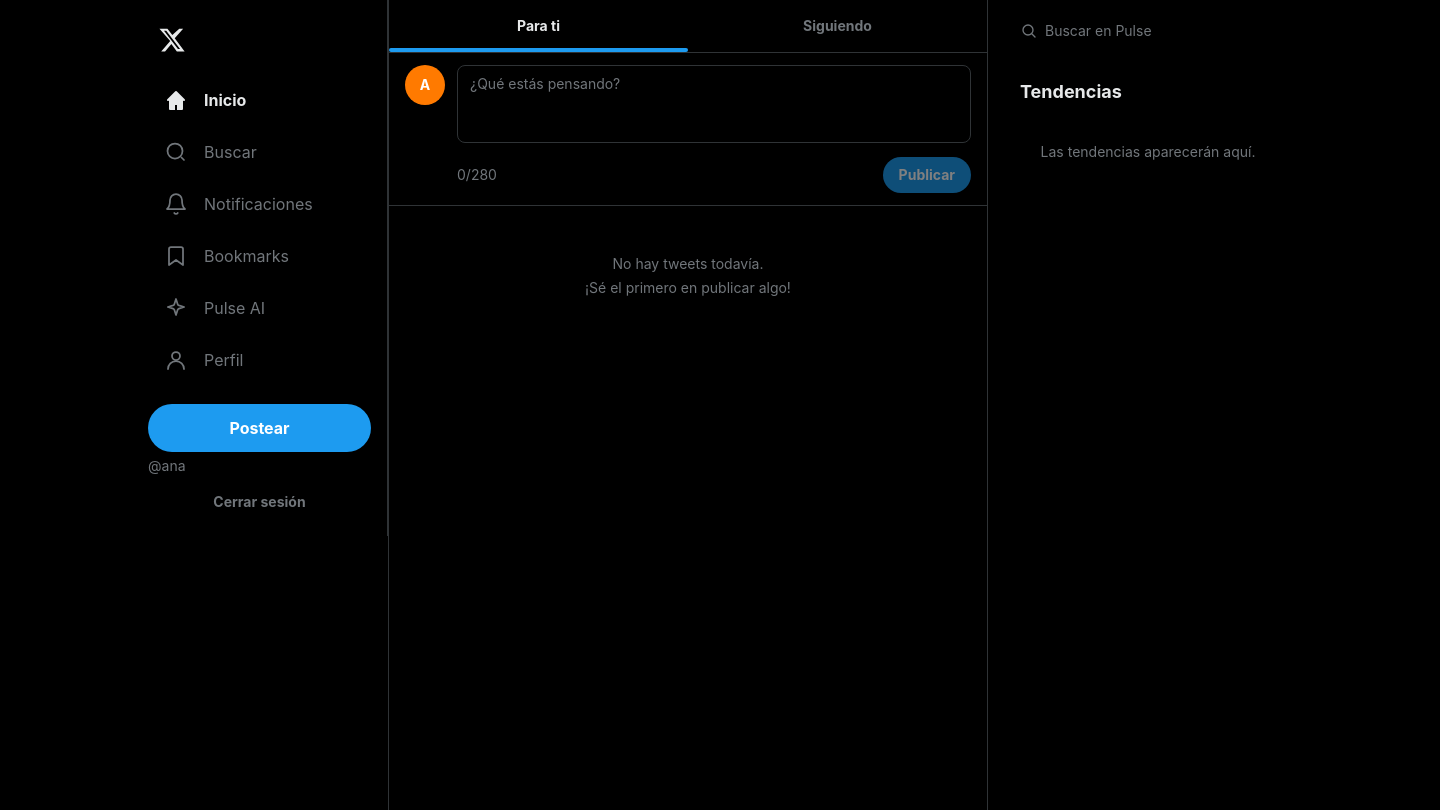
Test: ComposeModal — modal de composición de tweet › el botón Postear del sidebar abre el modal
Click the button "Postear".
click(260, 428)  # box [148,404,371,452]
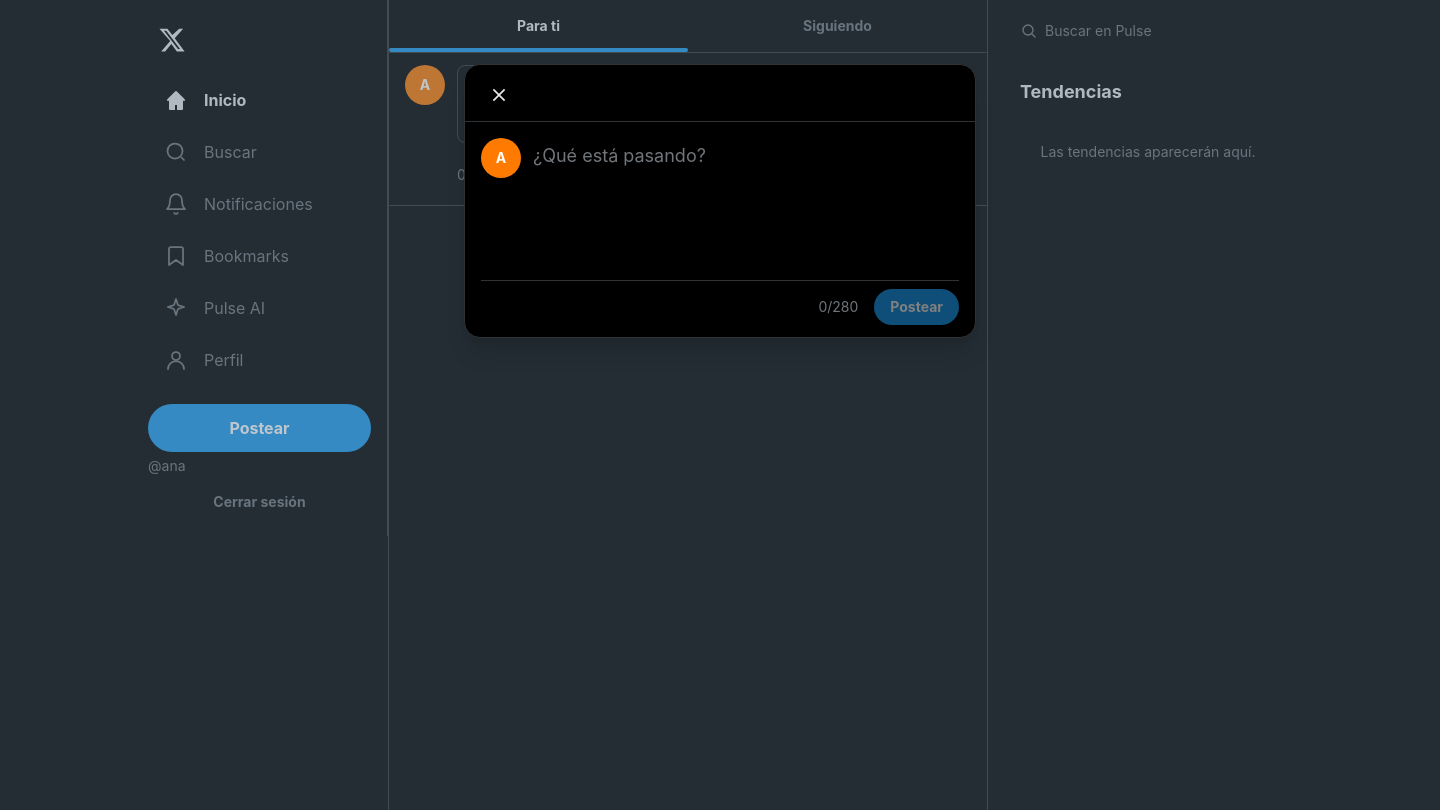
Now the dialog named "Componer tweet" is shown, box [464,64,976,338]
Now the text box with placeholder "¿Qué está pasando?" is shown, box [533,134,959,262]
